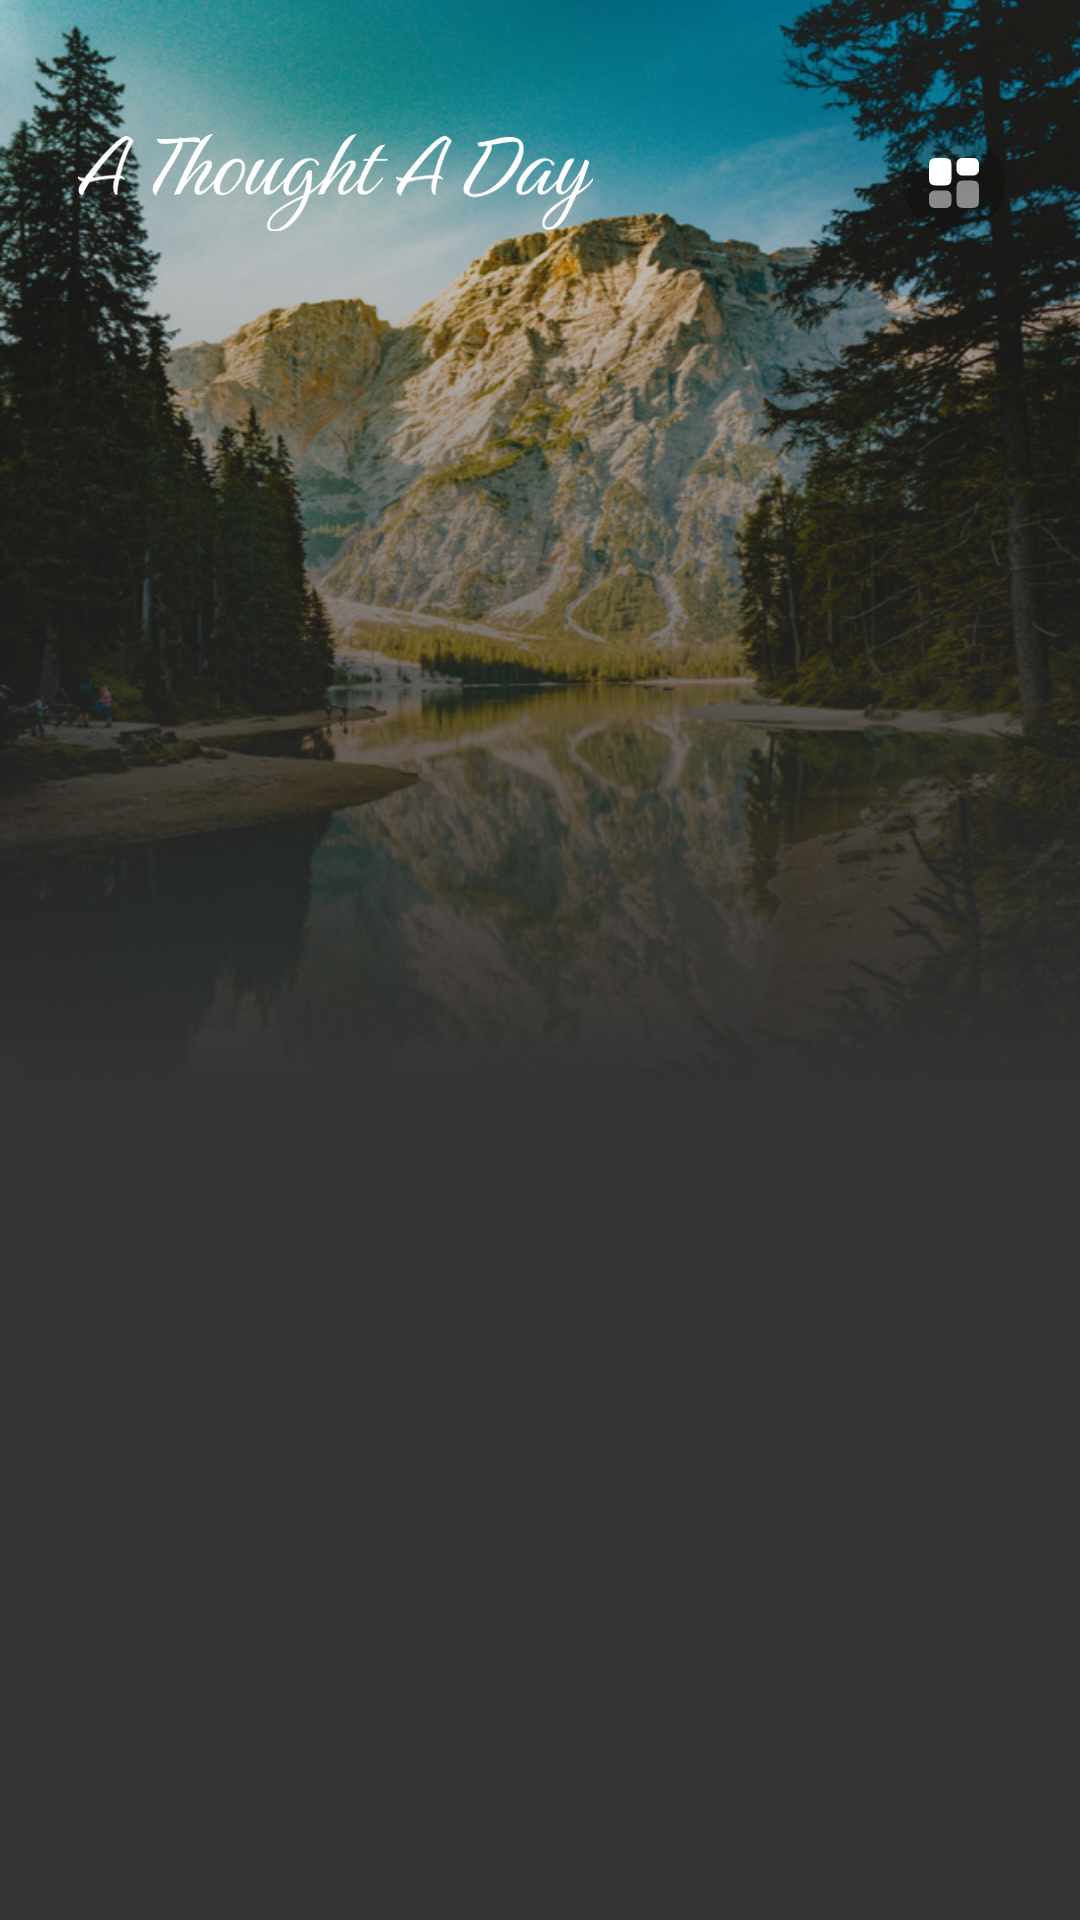

Icon click points for this 1080px x 1920px phone screenshot, format point (x, y):
menu: point (947, 183)
